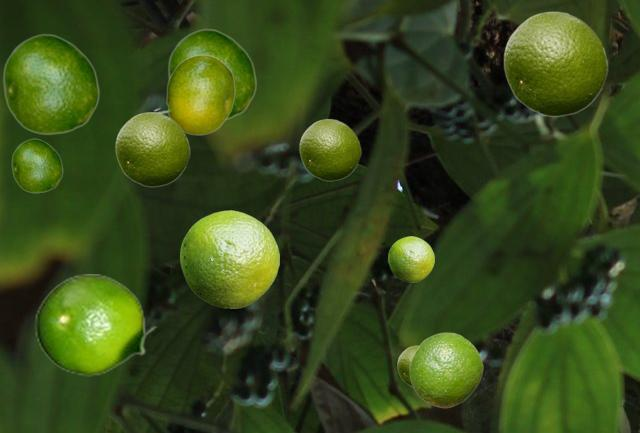calamansi: (34, 274, 157, 375), (503, 10, 607, 116), (2, 33, 99, 134), (180, 210, 278, 307), (167, 28, 256, 120), (153, 54, 234, 134), (115, 111, 189, 186), (409, 332, 482, 407), (299, 118, 360, 180), (11, 138, 62, 192), (388, 236, 433, 281), (397, 345, 418, 386)
